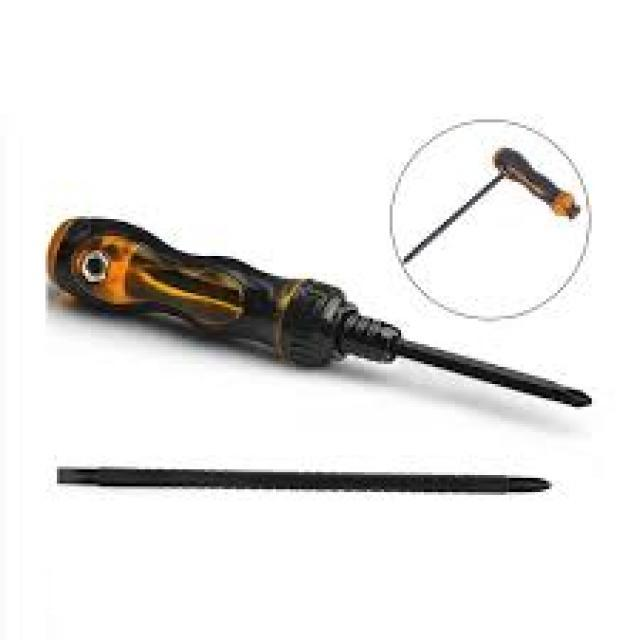screwdriver: (44, 209, 602, 414)
